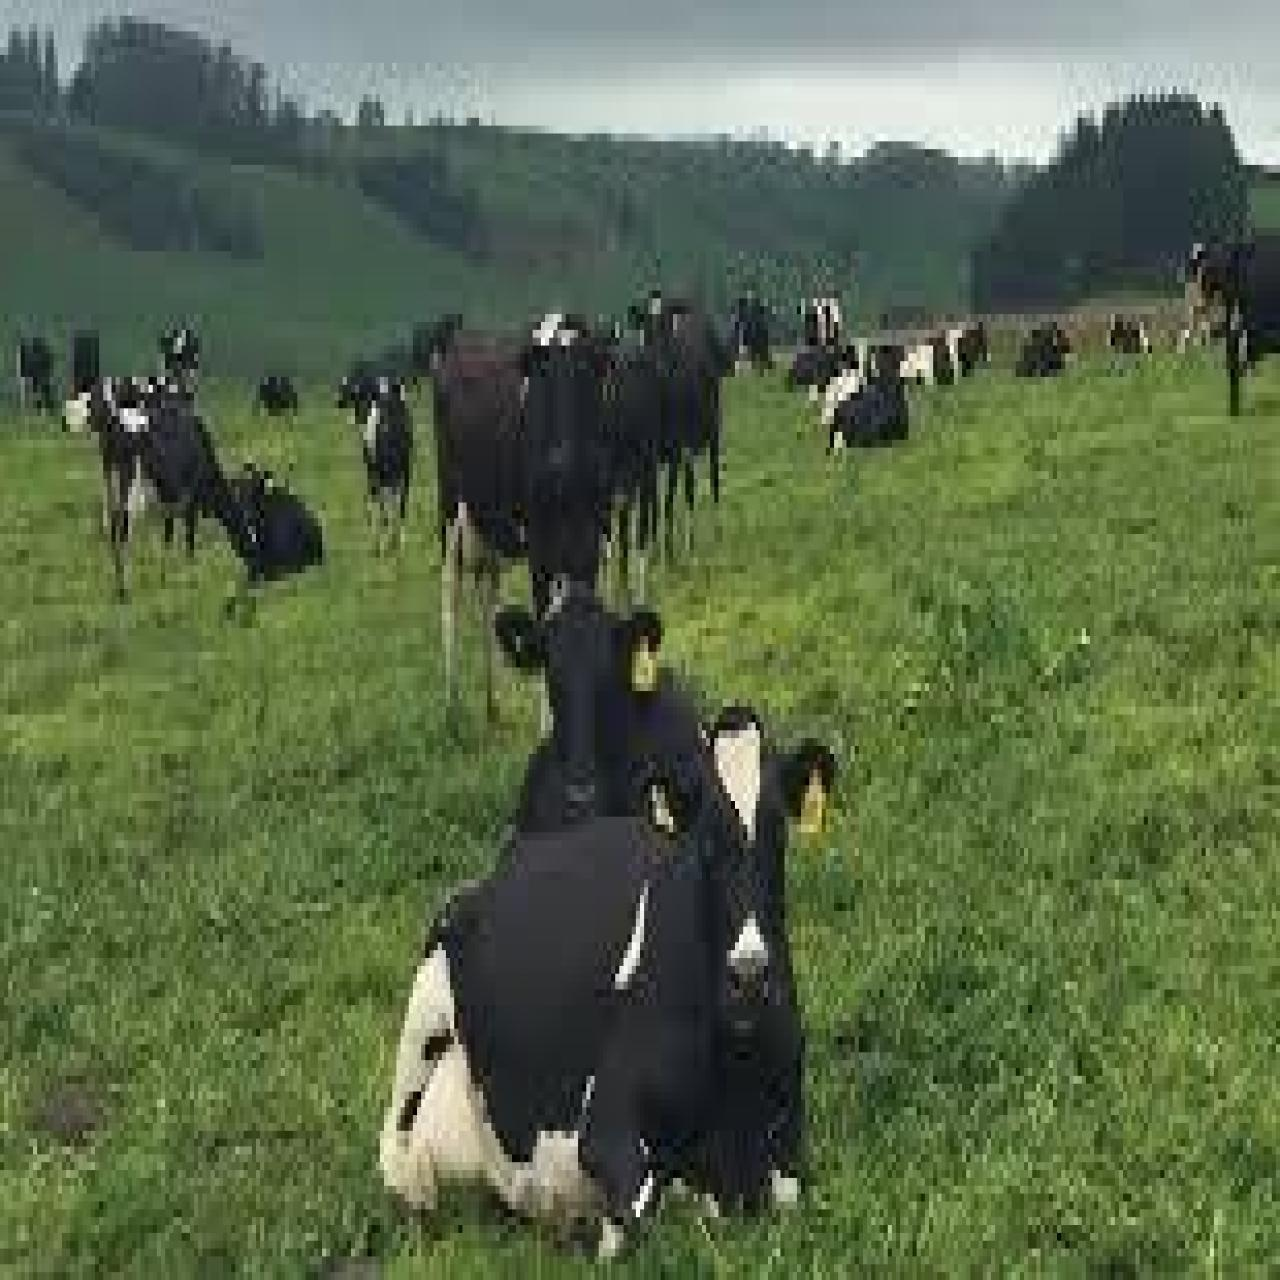cow: (377, 699, 840, 1280), (431, 334, 618, 710), (491, 585, 727, 829), (626, 291, 724, 526), (103, 409, 231, 565), (336, 358, 415, 561), (229, 459, 324, 578), (828, 373, 911, 459), (898, 319, 989, 389), (1009, 318, 1076, 381), (413, 314, 467, 377), (798, 294, 844, 358), (253, 365, 299, 420), (1104, 309, 1150, 358)
